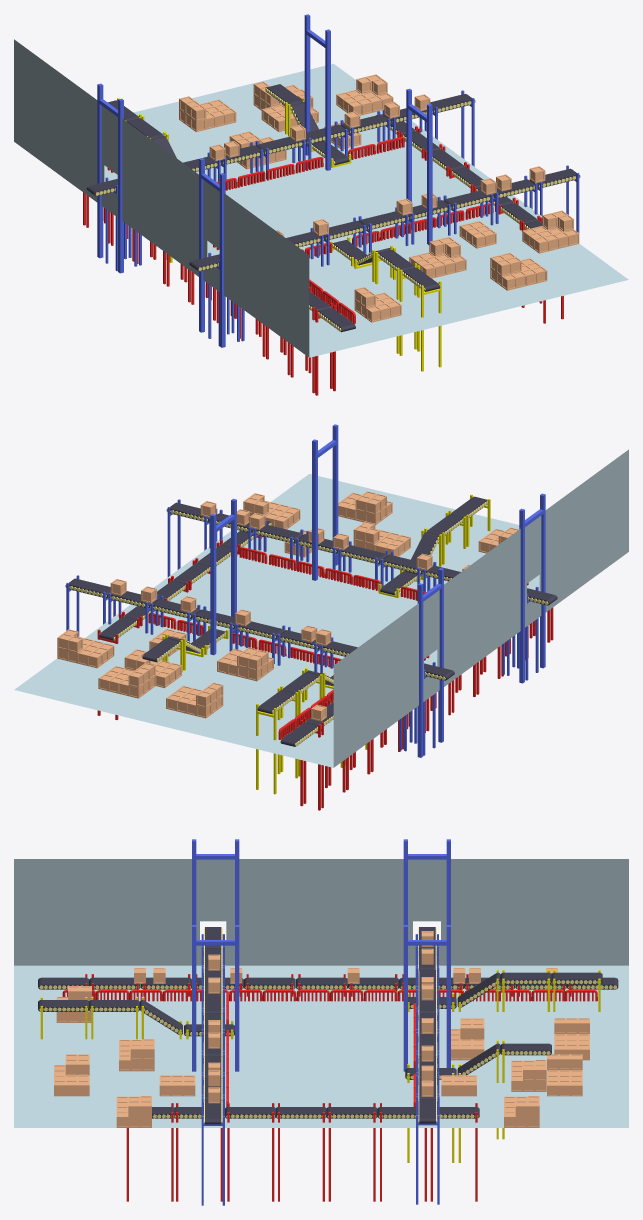
File: Environment01Resized.fbx
3 renders of one model, top to bottom at view 1: azimuth 30°, elevation 25°; view 2: azimuth 150°, elevation 25°; view 3: azimuth 270°, elevation 25°, orthographic. The views are drawn at different scales.
Visible parts, largest first — view 1: Walls_Floors, MetalBar_65, MetalBar_64, MetalBar_60, MetalBar_61, MetalBar_131; view 2: Walls_Floors, MetalBar_65, MetalBar_64, MetalBar_60, MetalBar_61, MetalBar_134; view 3: Walls_Floors, ConvayerBelt_58 (×3), MetalBar_61, MetalBar_60, ConvayerBelt_43 (×3), MetalBar_64, MetalBar_65, ConvayerBelt_19, ConvayerBelt_18, ConvayerBelt_63, ConvayerBelt_37, MetalBar_126 (+8 smaller).
Part boxes in pixels (x1,y1,x2,y2): Walls_Floors: (14, 39, 628, 357); MetalBar_65: (97, 83, 123, 273); MetalBar_64: (199, 158, 225, 347); MetalBar_60: (304, 14, 330, 170); MetalBar_61: (406, 88, 432, 244); MetalBar_131: (421, 281, 441, 371); Walls_Floors: (14, 449, 628, 767); MetalBar_65: (417, 568, 443, 757); MetalBar_64: (519, 493, 545, 683); MetalBar_60: (210, 498, 236, 655); MetalBar_61: (312, 424, 338, 580); MetalBar_134: (256, 703, 276, 794); Walls_Floors: (14, 859, 628, 1127); ConvayerBelt_58 (×3): (88, 972, 551, 1055); MetalBar_61: (192, 925, 239, 1071); MetalBar_60: (403, 925, 450, 1071); ConvayerBelt_43 (×3): (140, 972, 500, 1075); MetalBar_64: (192, 839, 239, 924); MetalBar_65: (403, 839, 450, 924); ConvayerBelt_19: (296, 977, 347, 989); ConvayerBelt_18: (244, 977, 295, 989); ConvayerBelt_63: (551, 972, 602, 984); ConvayerBelt_37: (326, 1107, 377, 1118); MetalBar_126: (416, 1115, 439, 1204).
Bounding box in the file's own units: 3.67 × 1.97 × 4.89.
